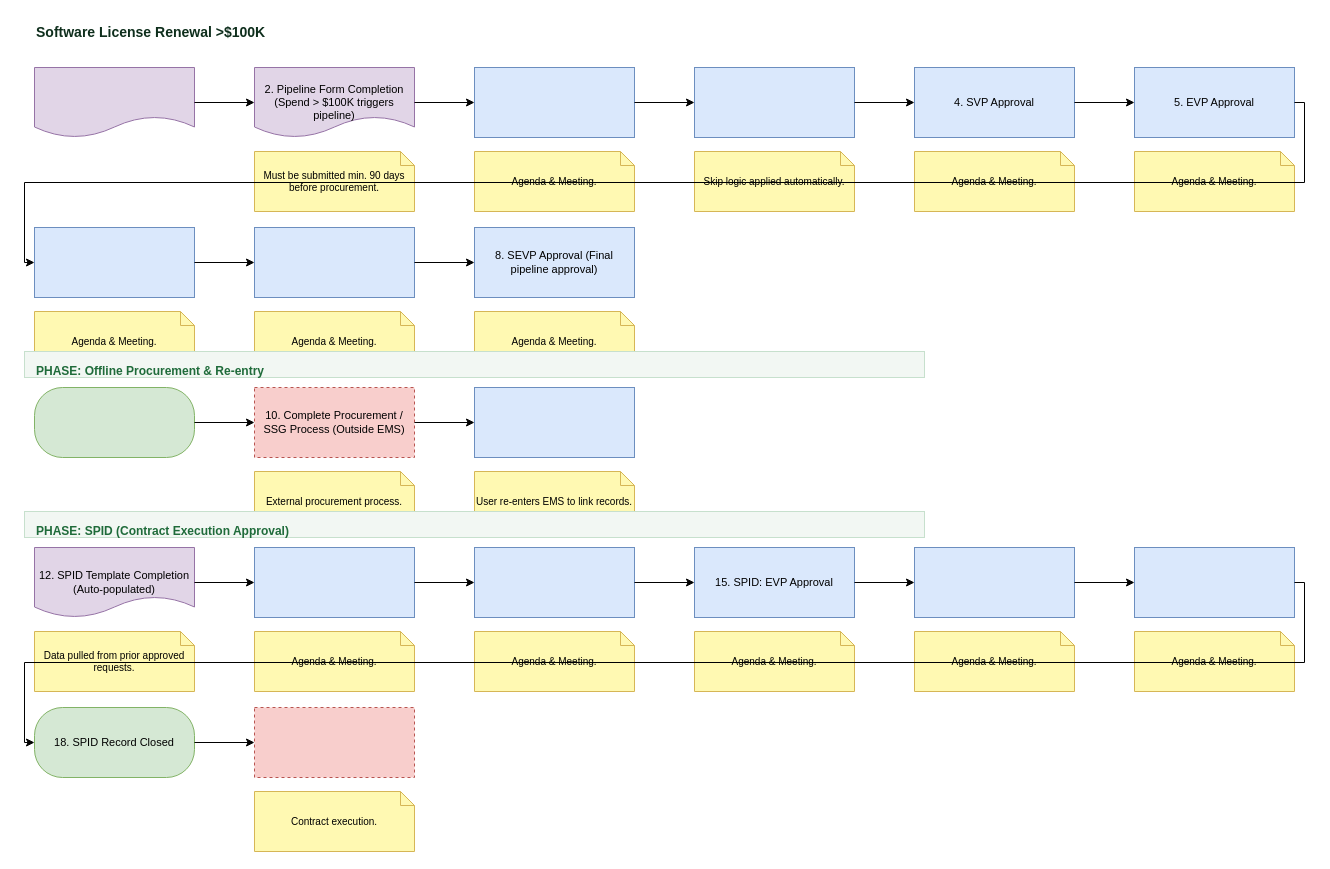
Some shapes in this 1330 by 869 pixel diagram are drawn without their labels. Each missing label, with the centre of its shape:
1. EMS Intake Triage (User enters EMS): the point at 114,102
11. Return to EMS: Enter Pipeline # and SR #: the point at 554,422
13. SPID: VP Approval: the point at 334,582
14. SPID: SVP Approval: the point at 554,582
16. SPID: Expense Review Committee: the point at 994,582
17. SPID: SEVP Approval (Final SPID approval): the point at 1214,582
19. Ariba DocuSign Process (Outside EMS): the point at 334,742
3. VP Approval (If VP exists in segment): the point at 554,102
3a. Skip VP -> SVP (If no VP in segment): the point at 774,102
6. FinEVP Approval: the point at 114,262
7. Expense Review Committee: the point at 334,262
9. Pipeline Closed: the point at 114,422
